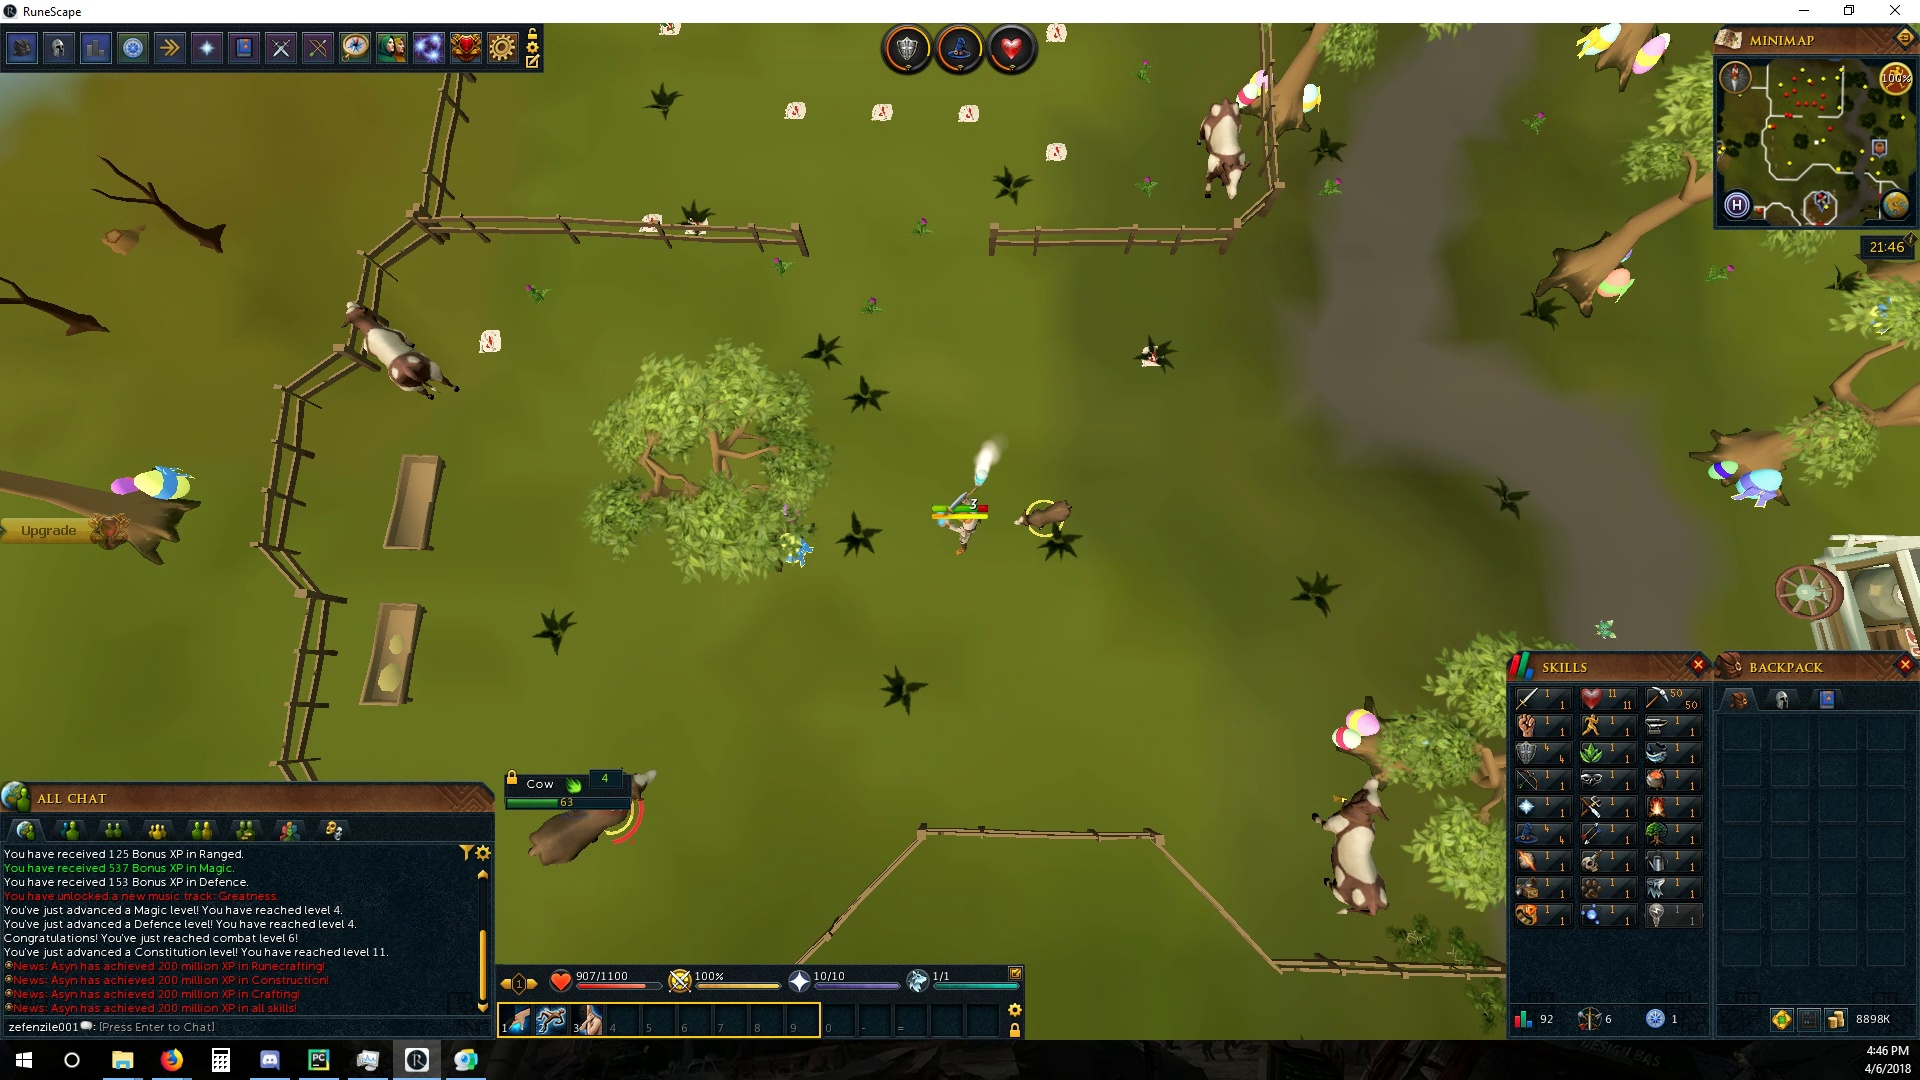calf: (1011, 500, 1073, 533)
cow: (518, 764, 663, 869), (338, 295, 465, 402), (1305, 775, 1393, 918), (1196, 98, 1250, 210)
cow_drop: (471, 324, 502, 355), (1138, 339, 1168, 368), (1039, 140, 1073, 164), (870, 98, 898, 127), (1043, 21, 1069, 47), (636, 211, 666, 233), (955, 102, 980, 123), (785, 98, 811, 117)
